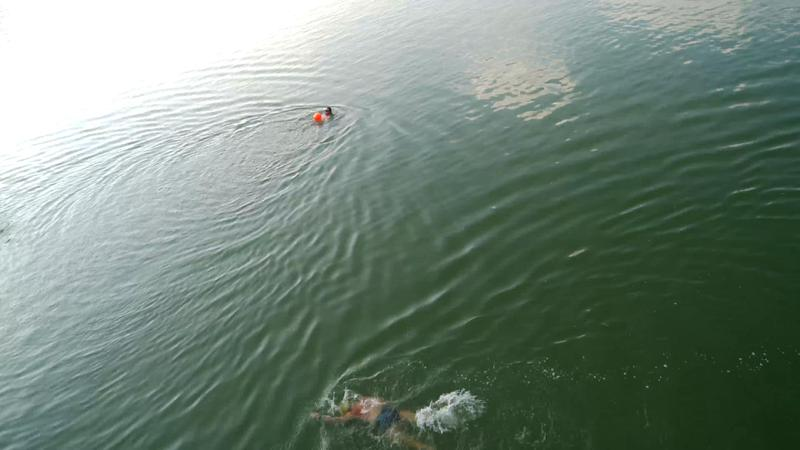swimmers: (308, 397, 435, 450), (311, 105, 336, 122)
